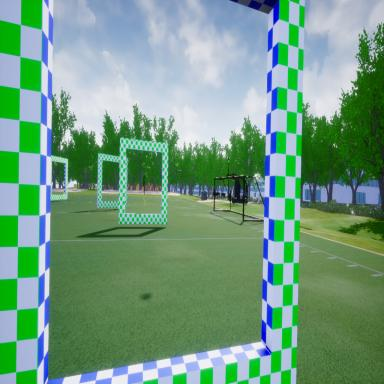gate: (0, 0, 305, 384), (118, 133, 170, 229), (95, 147, 130, 212)
